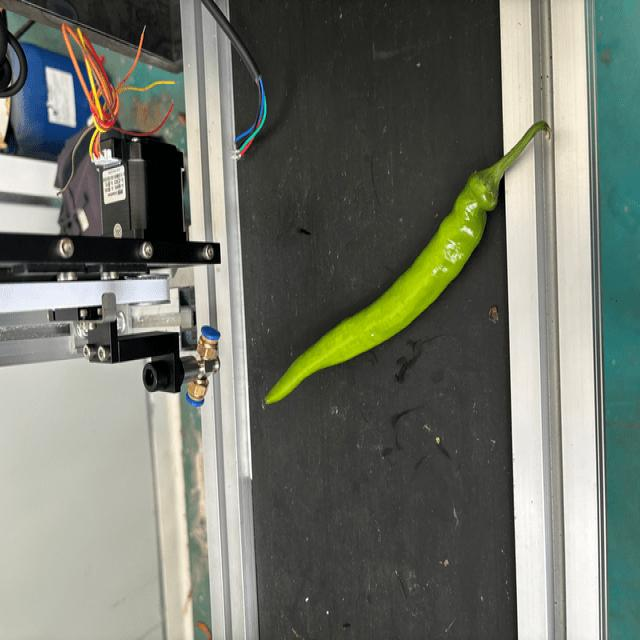chili: (263, 170, 501, 409)
